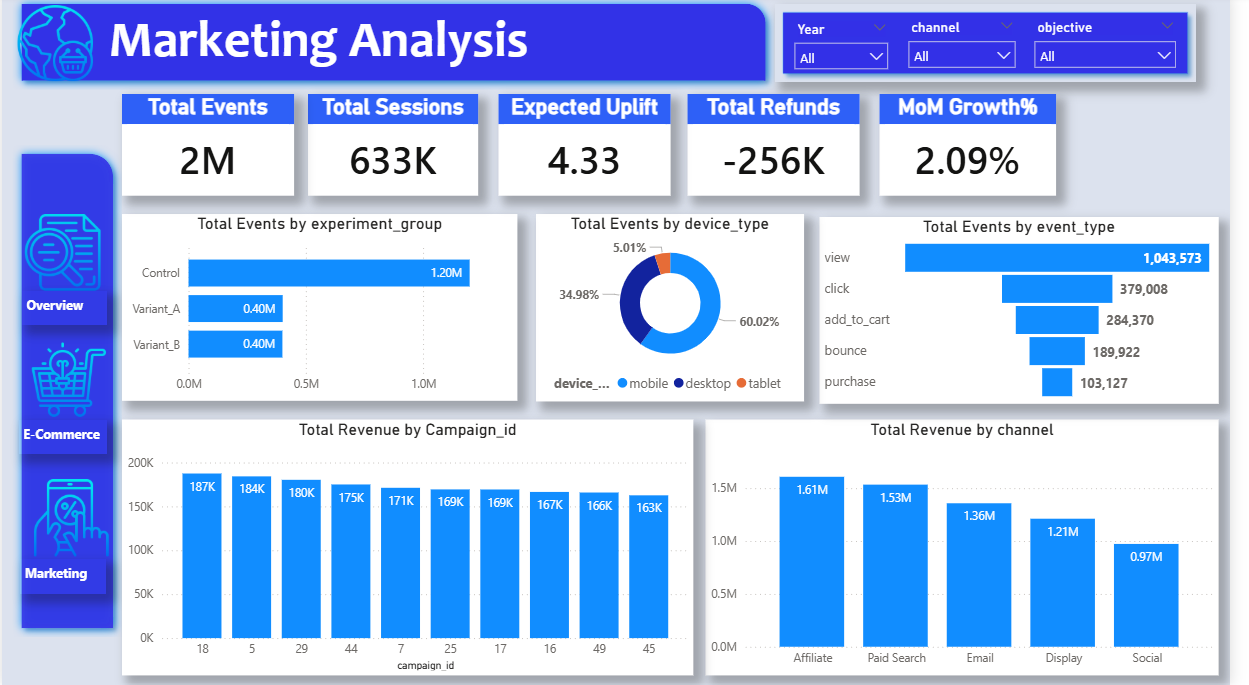

The dashboard page shown, as its layout file describes it:
{"tool":"powerbi","page":{"name":"final marketing ","canvas":[1280,720],"ordinal":3},"visuals":[{"type":"shape","box":[10.9,156.3,114.1,512.7],"z":0},{"type":"shape","box":[10.9,0,794,98.5],"z":1000},{"type":"image","box":[12.5,228.2,101.6,79.7],"z":2000},{"type":"image","box":[20.3,359.5,98.5,82.8],"z":3000},{"type":"image","box":[17.2,501.7,107.8,86],"z":4000},{"type":"textbox","box":[20.3,307.9,89.1,35.9],"z":5000},{"type":"textbox","box":[17.2,442.3,92.2,35.9],"z":6000},{"type":"textbox","box":[18.8,587.7,89.1,35.9],"z":7000},{"type":"columnChart","fields":{"Y":["transactions.Total Revenue"],"Category":["campaigns.channel"]},"box":[733.2,442.2,534.8,266.5],"z":8000},{"type":"funnel","fields":{"Category":["events.event_type"],"Y":["transactions.Total Events"]},"box":[852.3,230.6,415.8,194.6],"z":9000},{"type":"donutChart","fields":{"Category":["events.device_type"],"Y":["transactions.Total Events"]},"box":[556.5,227.4,279,195.2],"z":10000},{"type":"barChart","fields":{"Category":["events.experiment_group"],"Y":["transactions.Total Events"]},"box":[124.7,228.7,412,194.6],"z":11000},{"type":"shape","box":[804.9,9.4,439.2,81.3],"z":12000},{"type":"slicer","fields":{"Values":["Date Table.Year"]},"box":[816.6,21.9,117.5,67.7],"z":13000},{"type":"slicer","fields":{"Values":["campaigns.channel"]},"box":[934.7,20.3,131.3,68.8],"z":14000},{"type":"textbox","box":[10.9,7.8,637.7,81.3],"z":15000},{"type":"cardVisual","title":"MoM Growth%","fields":{"Data":["transactions.MoM Growth %"]},"box":[913.7,103.9,184.3,105.9],"z":16000},{"type":"cardVisual","title":"Total Refunds","fields":{"Data":["transactions.Total Refunds"]},"box":[714.3,103.9,179.5,105.8],"z":17000},{"type":"cardVisual","title":"Expected Uplift","fields":{"Data":["transactions.Expected Uplift"]},"box":[517.8,103.9,179.5,105.8],"z":18000},{"type":"cardVisual","title":"Total Sessions","fields":{"Data":["transactions.Total Sessions"]},"box":[319.4,103.9,177.6,105.8],"z":19000},{"type":"cardVisual","title":"Total Events","fields":{"Data":["transactions.Total Events"]},"box":[124.7,103.9,179.5,105.8],"z":20000},{"type":"image","box":[1.6,7.8,107.8,84.4],"z":21000},{"type":"slicer","fields":{"Values":["campaigns.objective"]},"box":[1066,20.3,167.2,68.8],"z":22000},{"type":"columnChart","title":"Total Revenue by Campaign_id","fields":{"Category":["campaigns.campaign_id"],"Y":["transactions.Total Revenue"]},"box":[124.7,442.2,595.3,266.5],"z":23000}]}

Visuals, with their boxes in screenshot pixels (x1, y1, x2, y2), scaled from the page's 1280x720 canvas onto the 1249x685 screenshot:
shape: 11, 149, 122, 636
shape: 11, 0, 785, 94
image: 12, 217, 111, 293
image: 20, 342, 116, 421
image: 17, 477, 122, 559
textbox: 20, 293, 107, 327
textbox: 17, 421, 107, 455
textbox: 18, 559, 105, 593
columnChart - transactions.Total Revenue x campaigns.channel: 715, 421, 1237, 674
funnel - events.event_type x transactions.Total Events: 832, 219, 1237, 405
donutChart - events.device_type x transactions.Total Events: 543, 216, 815, 402
barChart - events.experiment_group x transactions.Total Events: 122, 218, 524, 403
shape: 785, 9, 1214, 86
slicer - Date Table.Year: 797, 21, 911, 85
slicer - campaigns.channel: 912, 19, 1040, 85
textbox: 11, 7, 633, 85
"MoM Growth%" cardVisual: 892, 99, 1071, 200
"Total Refunds" cardVisual: 697, 99, 872, 200
"Expected Uplift" cardVisual: 505, 99, 680, 200
"Total Sessions" cardVisual: 312, 99, 485, 200
"Total Events" cardVisual: 122, 99, 297, 200
image: 2, 7, 107, 88
slicer - campaigns.objective: 1040, 19, 1203, 85
"Total Revenue by Campaign_id" columnChart: 122, 421, 703, 674
